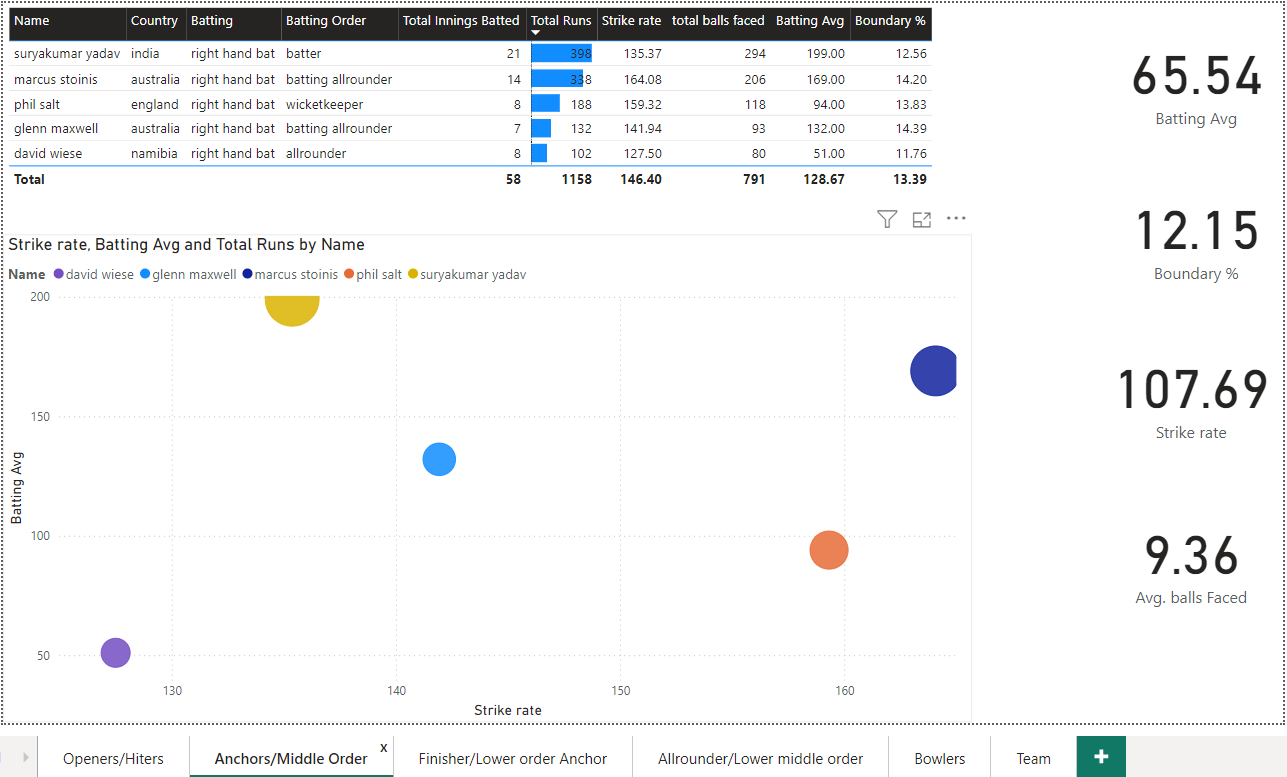

The dashboard page shown, as its layout file describes it:
{"tool":"powerbi","page":{"name":"Anchors/Middle Order","canvas":[1280,720],"ordinal":1},"visuals":[{"type":"tableEx","fields":{"Values":["players_summary.Name","players_summary.Country","players_summary.Batting","players_summary.Batting Order","Key_Measures.Total Innings Batted","Key_Measures.Total Runs","Key_Measures.Strike rate","Key_Measures.total balls faced","Key_Measures.Batting Avg","Key_Measures.Boundary %"]},"box":[0,0,968.6,221.4],"z":0},{"type":"card","fields":{"Values":["Key_Measures.Strike rate"]},"box":[1095.7,310,184.3,160],"z":1000},{"type":"card","fields":{"Values":["Key_Measures.Avg. balls Faced"]},"box":[1095.7,470,184.3,171.4],"z":2000},{"type":"card","fields":{"Values":["Key_Measures.Batting Avg"]},"box":[1105.7,0,174.3,152.9],"z":3000},{"type":"card","fields":{"Values":["Key_Measures.Boundary %"]},"box":[1105.7,152.9,174.3,157.1],"z":4000},{"type":"scatterChart","fields":{"X":["Key_Measures.Strike rate"],"Y":["Key_Measures.Batting Avg"],"Size":["Key_Measures.Total Runs"],"Series":["players_summary.Name"]},"box":[0,231.4,968.6,488.6],"z":5000}]}

Visuals, with their boxes on the page's 1280x720 design canvas (x1, y1, x2, y2). These are canvas units, not pixel positions in the 1287x777 screenshot, which may show the page scaled, cropped or inside an application window:
tableEx - players_summary.Name x players_summary.Country: box=[0, 0, 969, 221]
card - Key_Measures.Strike rate: box=[1096, 310, 1280, 470]
card - Key_Measures.Avg. balls Faced: box=[1096, 470, 1280, 641]
card - Key_Measures.Batting Avg: box=[1106, 0, 1280, 153]
card - Key_Measures.Boundary %: box=[1106, 153, 1280, 310]
scatterChart - Key_Measures.Strike rate x Key_Measures.Batting Avg: box=[0, 231, 969, 720]
